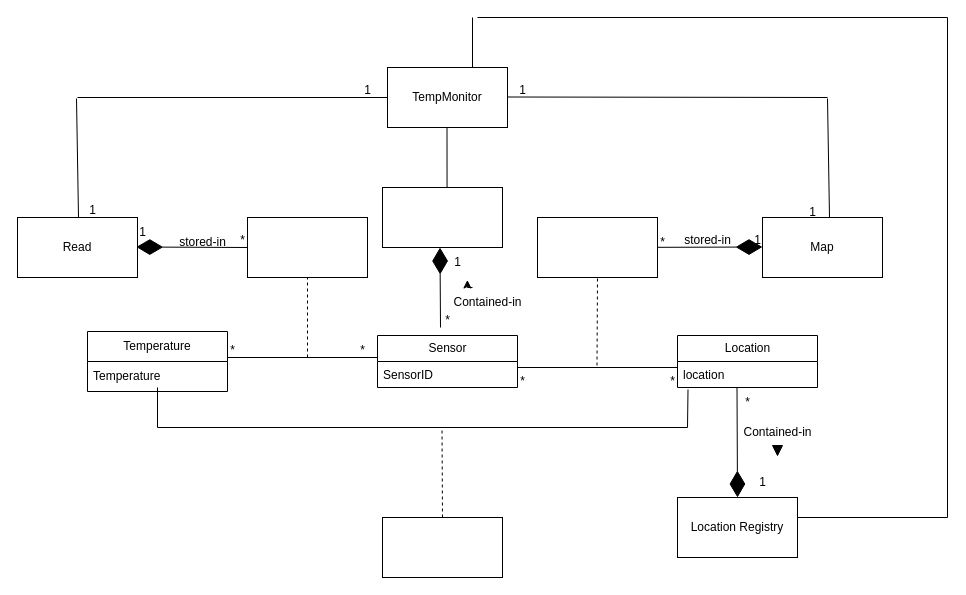
Some shapes in this 966 by 595 pixel diagram are drawn without their labels. Each missing label, with the centre of its shape:
"Deployment" belongs at point (597, 247).
"LocationTemp" belongs at point (442, 547).
"Measurement" belongs at point (307, 247).
"Sensor Registry" belongs at point (442, 217).
